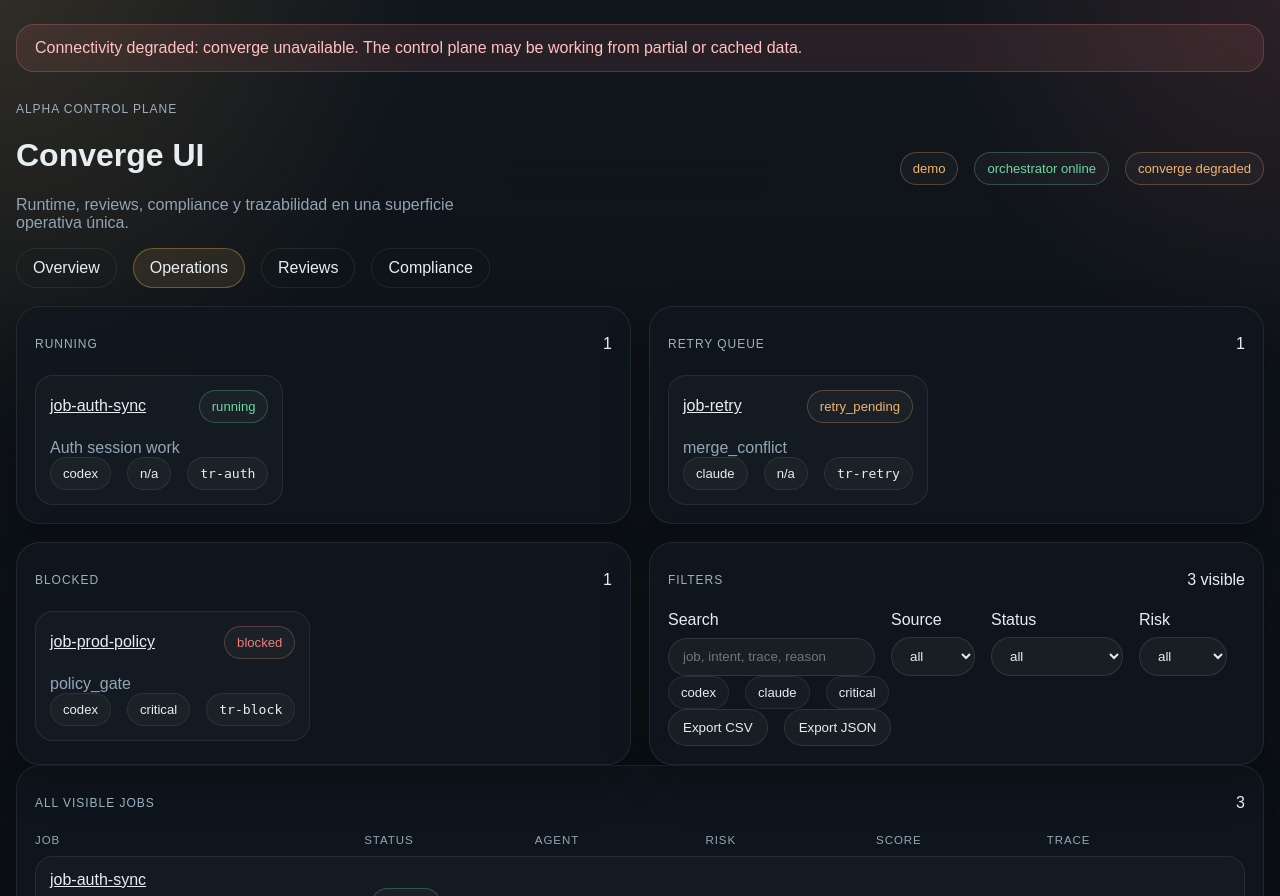
Scenario: App › filters operations by search text
Expected: the text "All visible jobs" is shown, [35,796,155,810]
In the field with placeholder "job, intent, trace, reason": (772, 657) [668,638,875,676], type "merge_conflict"
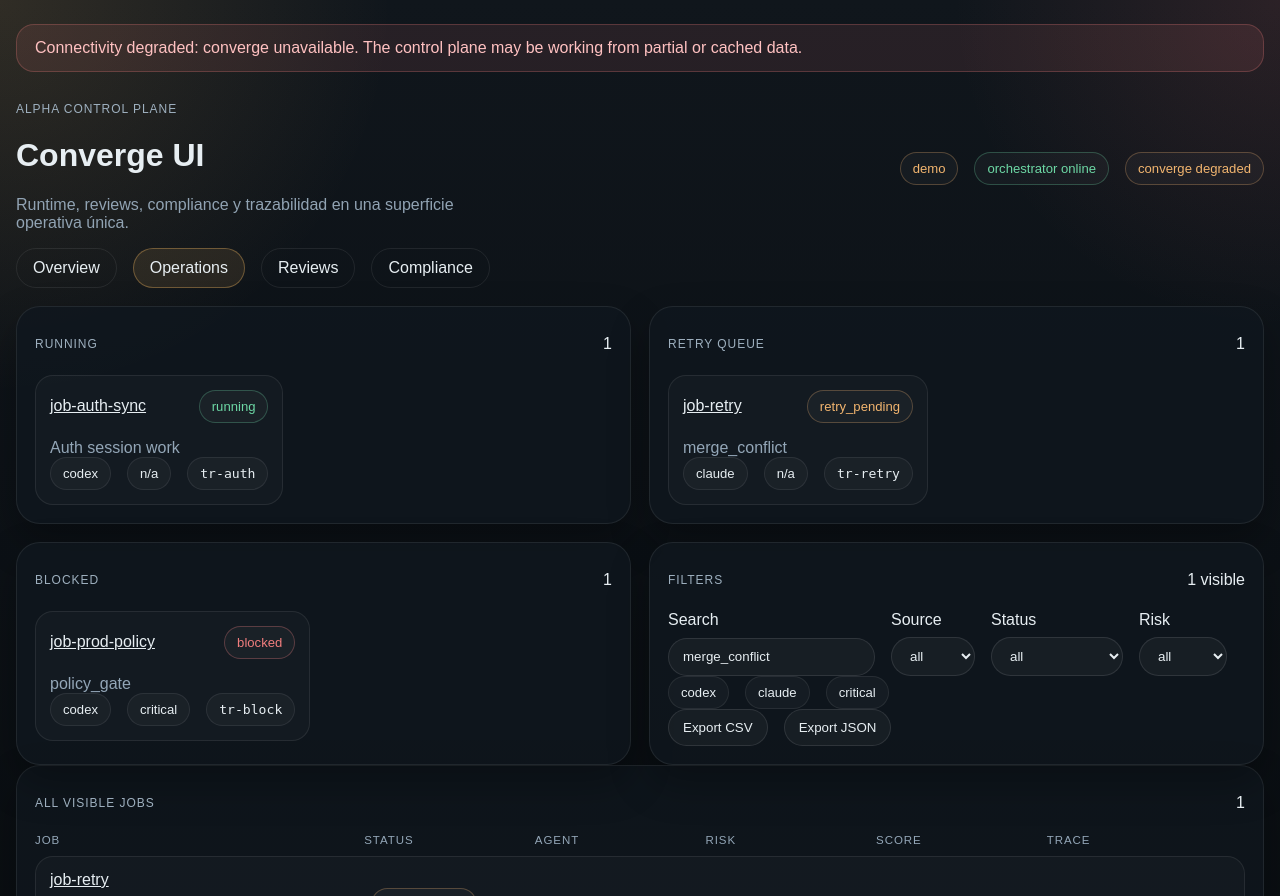
Expected: the link "job-retry" below "Retry queue" is shown, [683,397,742,415]
Result: the text "1 visible" is shown at [1187,571,1245,589]
